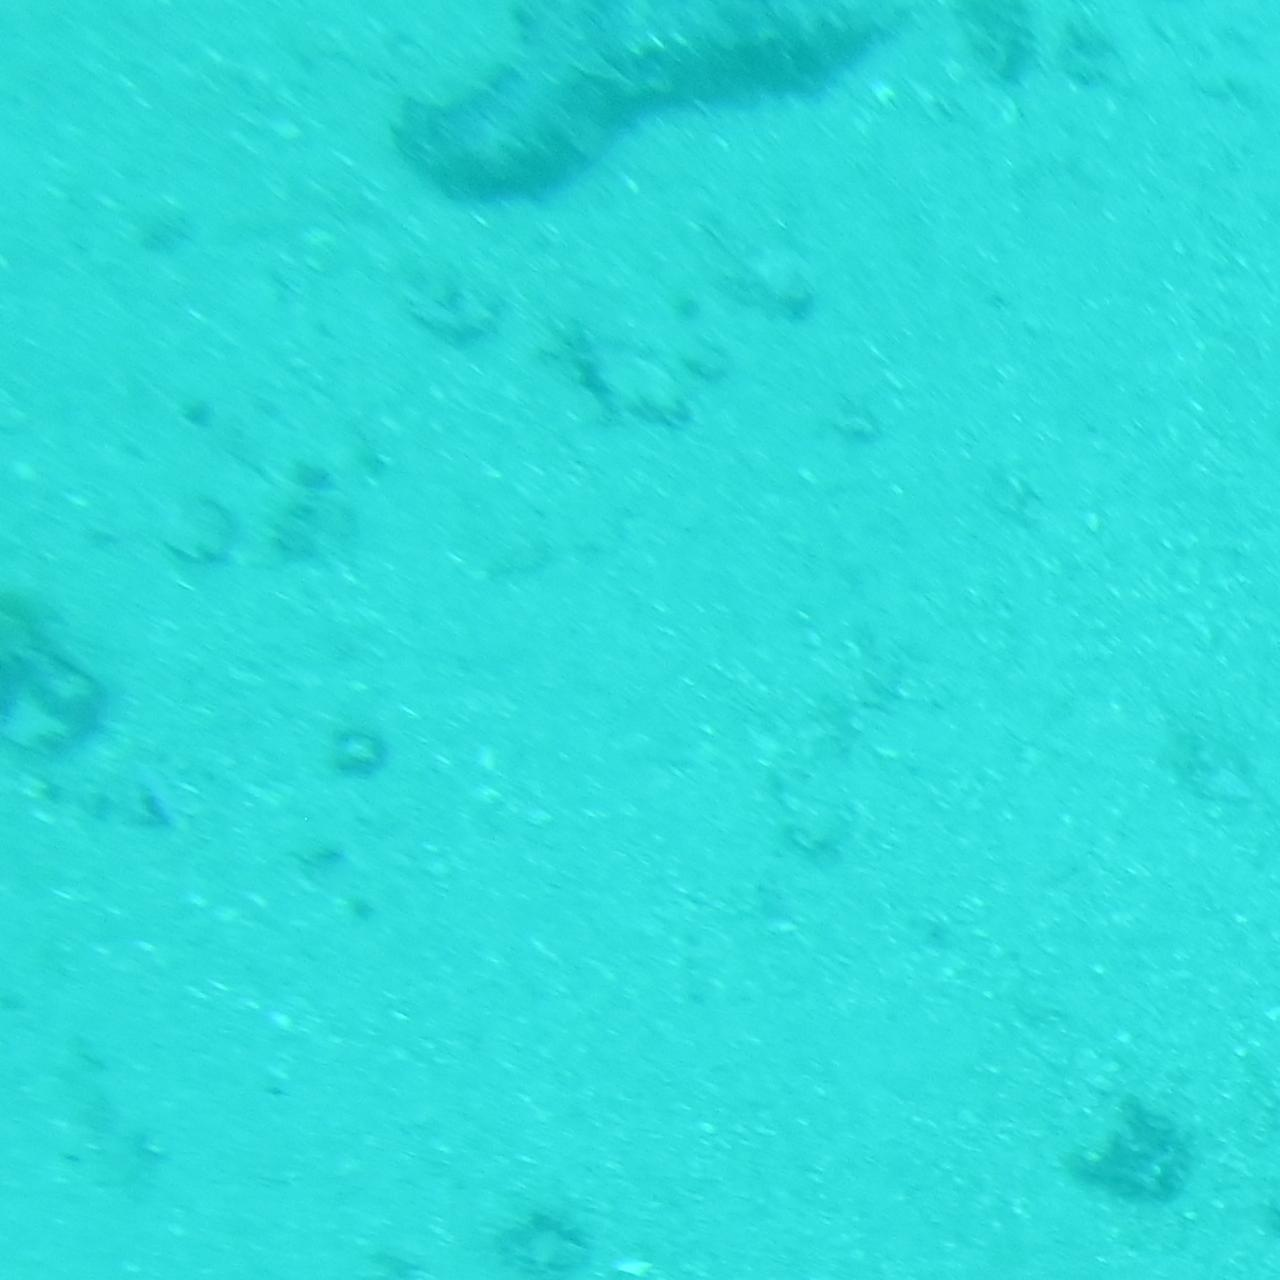Holothuria tubulosa: (380, 0, 900, 207)
